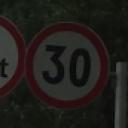speed_limit_30: (26, 22, 108, 110)
